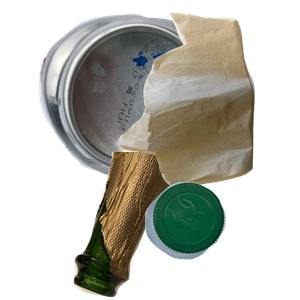glass: (71, 152, 260, 300)
metal: (37, 11, 261, 180)
plastic: (142, 179, 300, 300)
trash: (114, 10, 300, 189)
